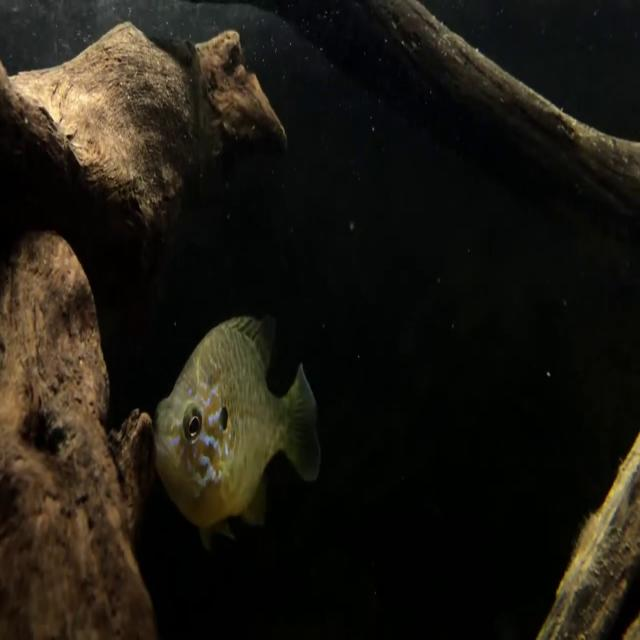Gunes Levregi: (151, 310, 322, 550)
